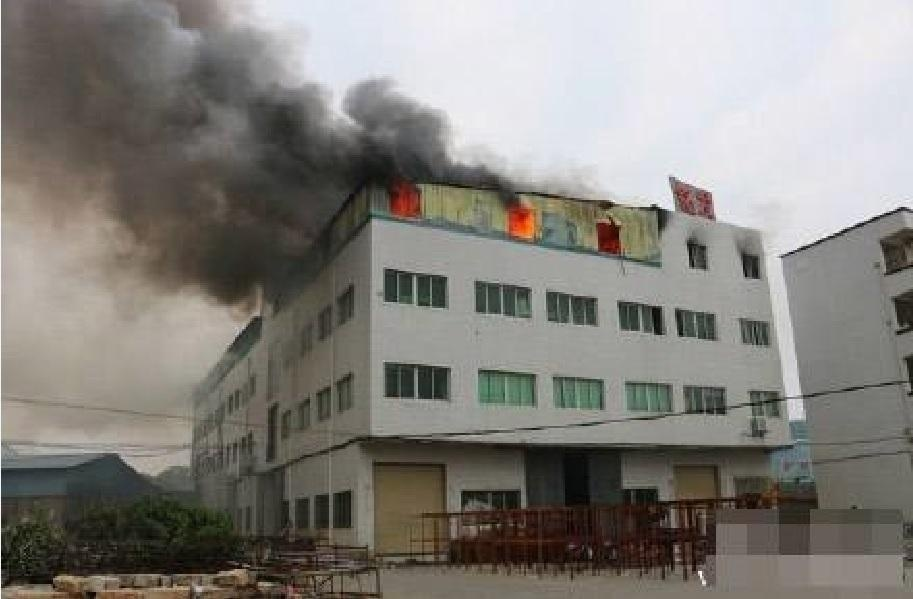fire: (390, 183, 419, 217), (507, 202, 536, 235)
